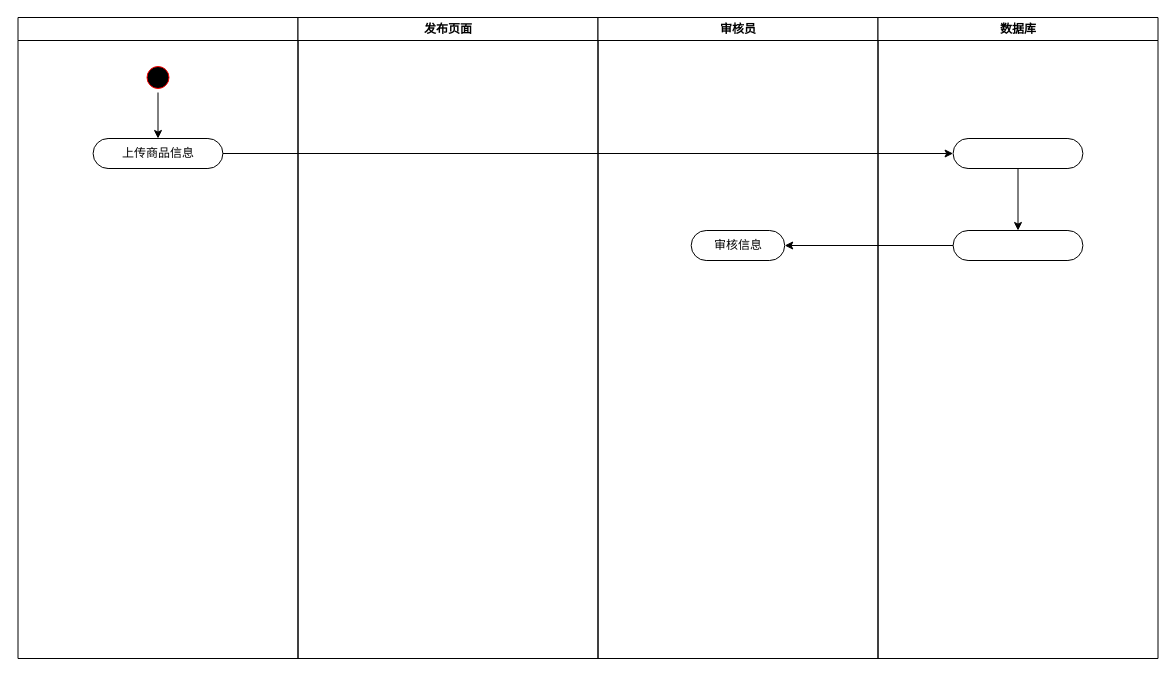
Image size: 1175x676. Some labels were removed from this diagram. The shapes that lost their labels are listed below. From the top down, each one's box as (x1, y1, x2, y2) in pixels, then its label:
(952, 138, 1083, 168): 将信息暂存至数据库
(952, 230, 1083, 260): 等待审核员审核
(17, 16, 298, 658): 用户（卖家）
